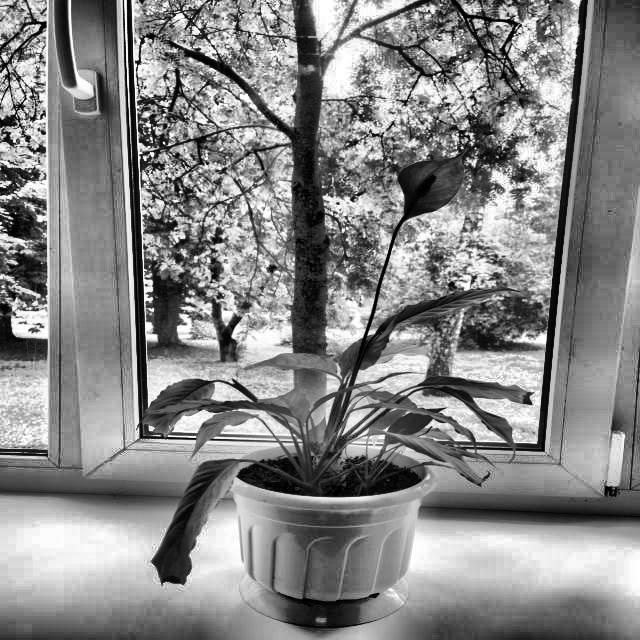plants: (137, 150, 537, 616), (150, 454, 247, 586), (422, 358, 537, 426)
